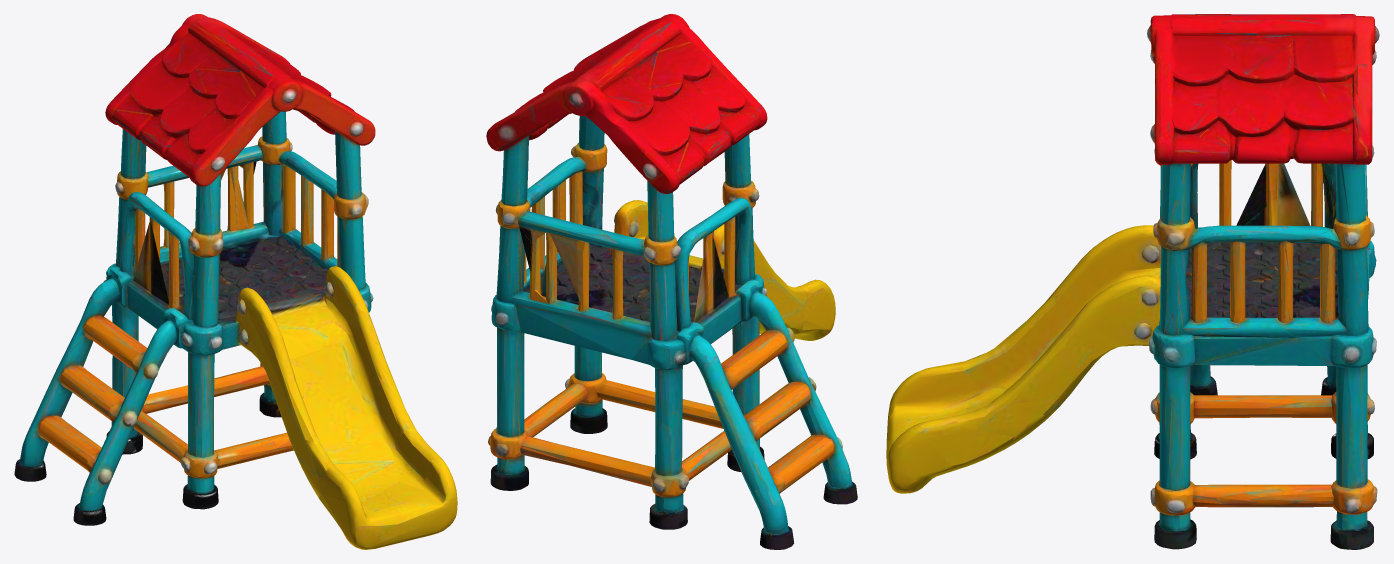
File: prop_climb.glb
The picture shows the model from 3 angles, left to right: view 1: azimuth 30°, elevation 25°; view 2: azimuth 150°, elevation 25°; view 3: azimuth 270°, elevation 25°; orthographic projection. The views are drawn at different scales.
Size of the model in its own units: 1.4 by 1.9 by 1.76.
Materials: 1 (1 with a texture image).
